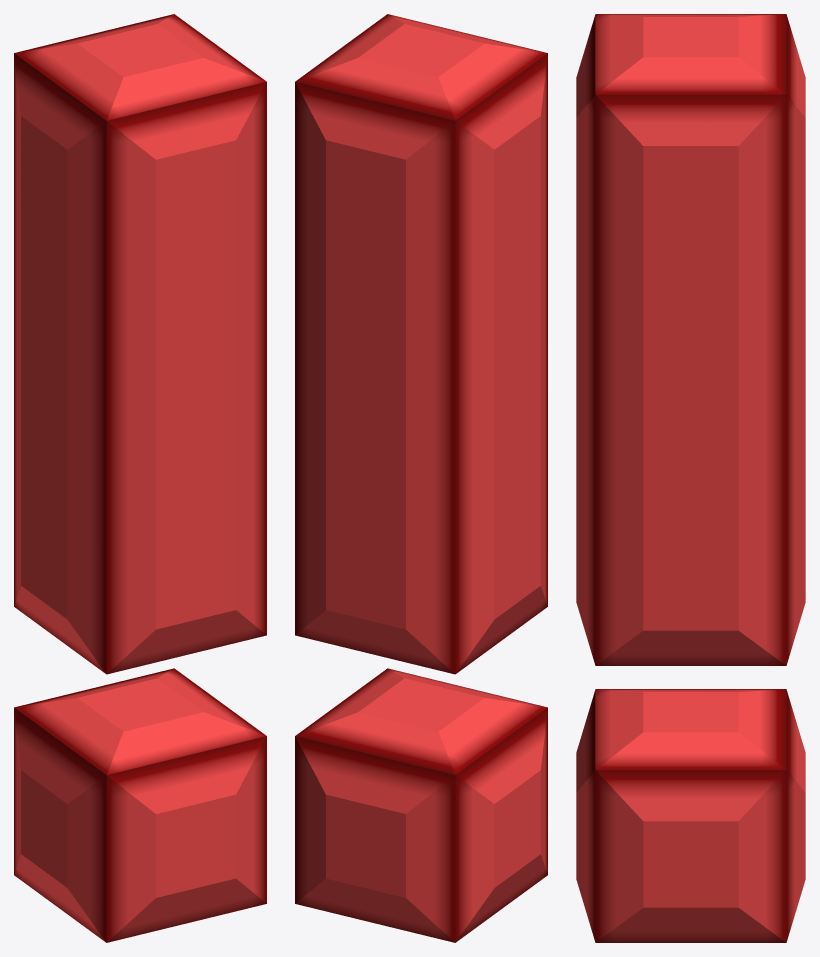
Rendered from Exclamation.fbx.
3 views of the same model, side by side, from view 1: azimuth 30°, elevation 25°; view 2: azimuth 150°, elevation 25°; view 3: azimuth 270°, elevation 25° (orthographic). The views are drawn at different scales.
Parts seen in each view (by area): view 1: mesh_1, mesh; view 2: mesh_1, mesh; view 3: mesh_1, mesh.
Part boxes in pixels (x1,y1,x2,y2): mesh_1: (14,14,266,674); mesh: (14,668,266,942); mesh_1: (295,14,547,674); mesh: (295,668,547,942); mesh_1: (576,14,805,665); mesh: (576,689,805,942).
Bounding box in the file's own units: 75 × 319 × 75.
1 material, 1 textured.
